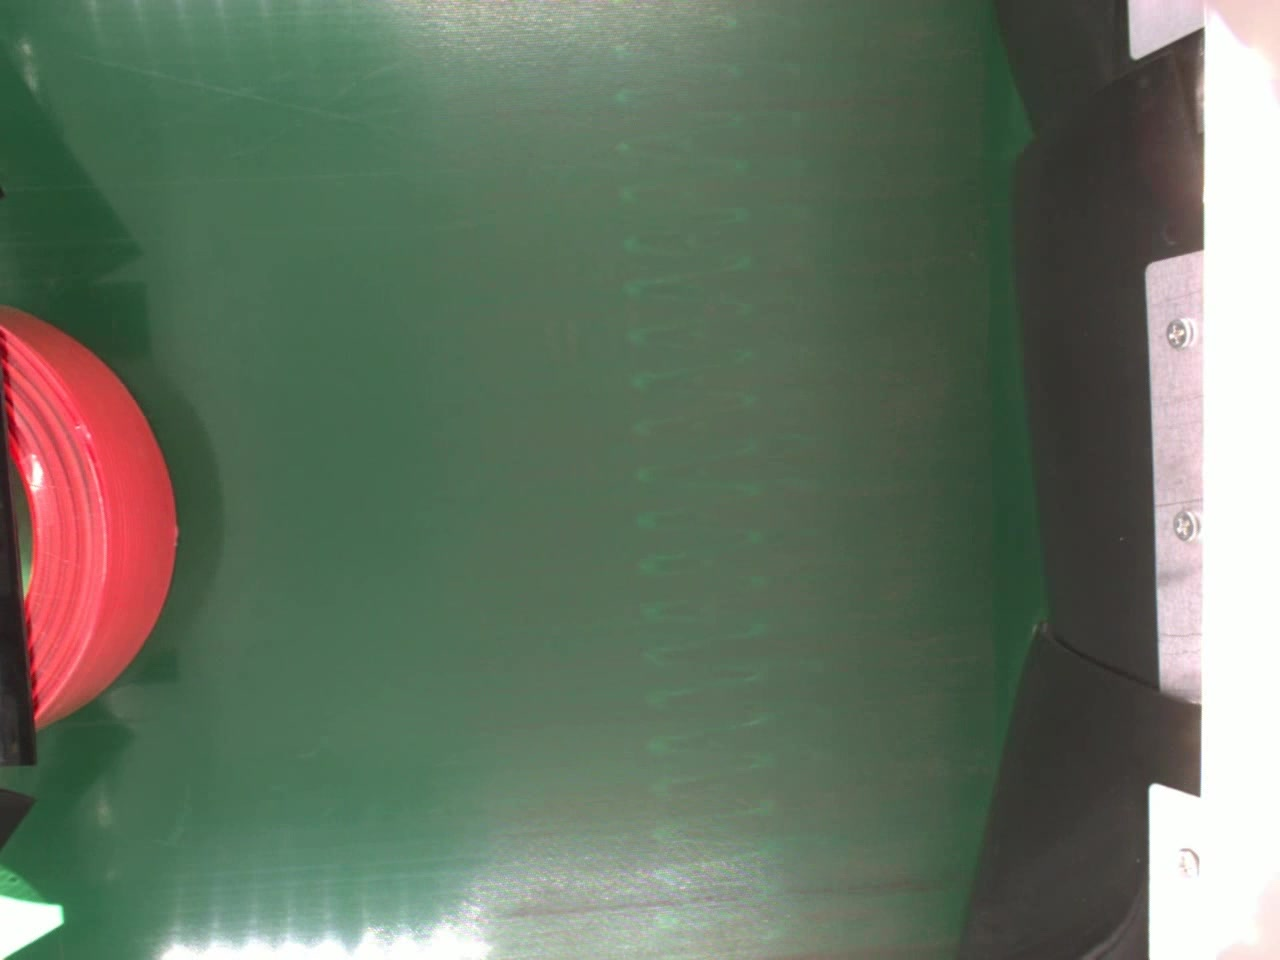red: (0, 301, 177, 728)
